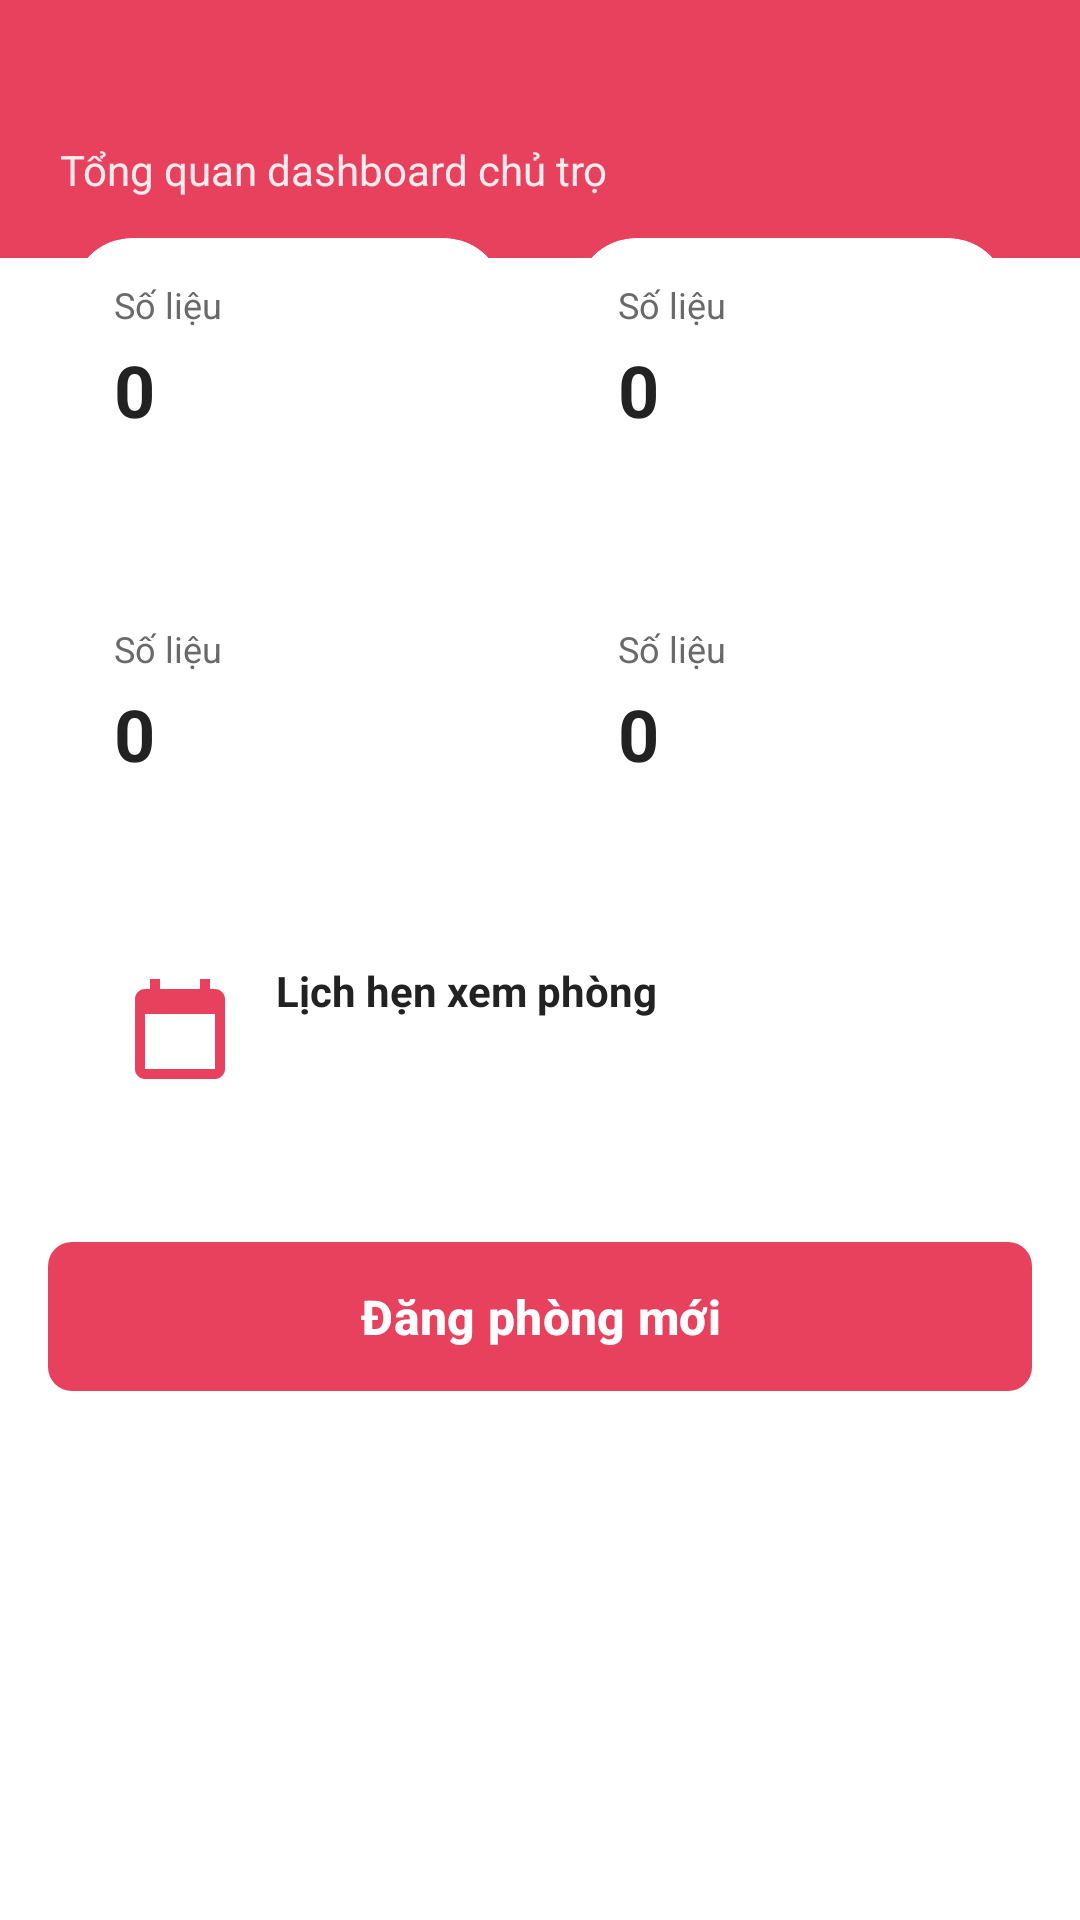

Icons on this 1080×1920 Android screen, each with its box as BBox(x1, y1, x2, y2):
calendar: BBox(135, 979, 225, 1079)
